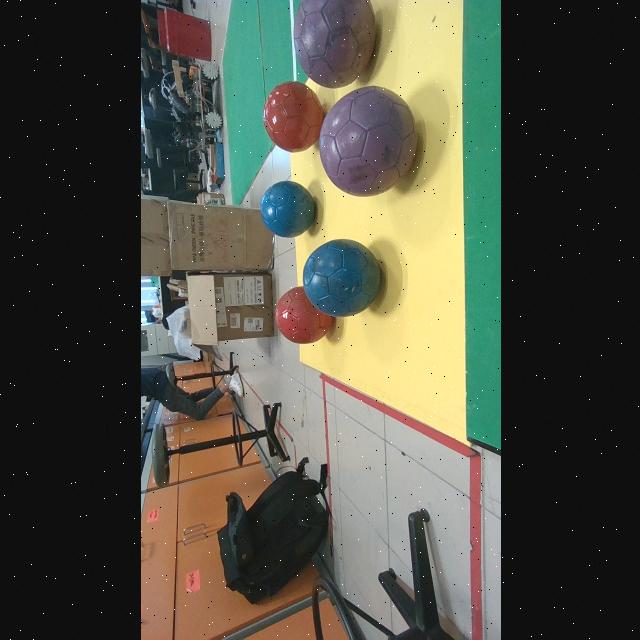B: (302, 240, 379, 318), (259, 181, 314, 238)
P: (318, 86, 416, 196), (292, 0, 374, 89)
R: (262, 81, 323, 152), (274, 286, 331, 344)
